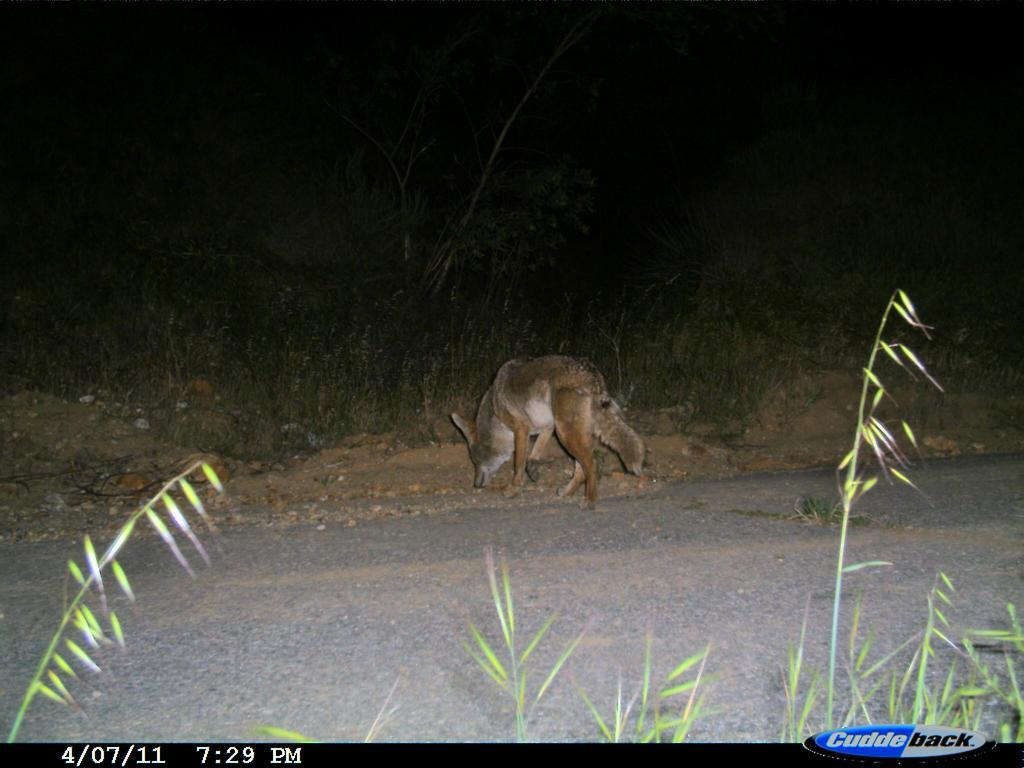coyote: (442, 346, 644, 534)
